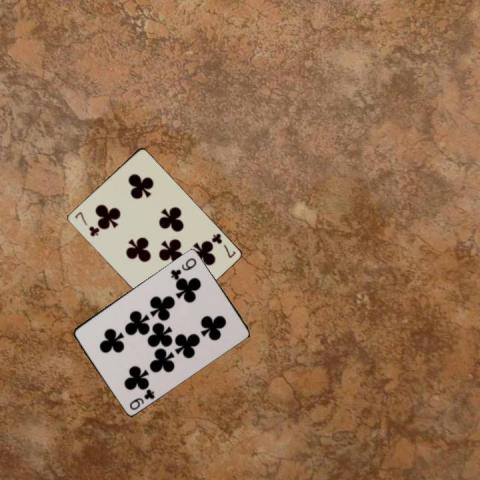7c: (71, 209, 100, 238), (208, 230, 237, 259)
9c: (127, 386, 156, 412), (167, 255, 198, 279)
